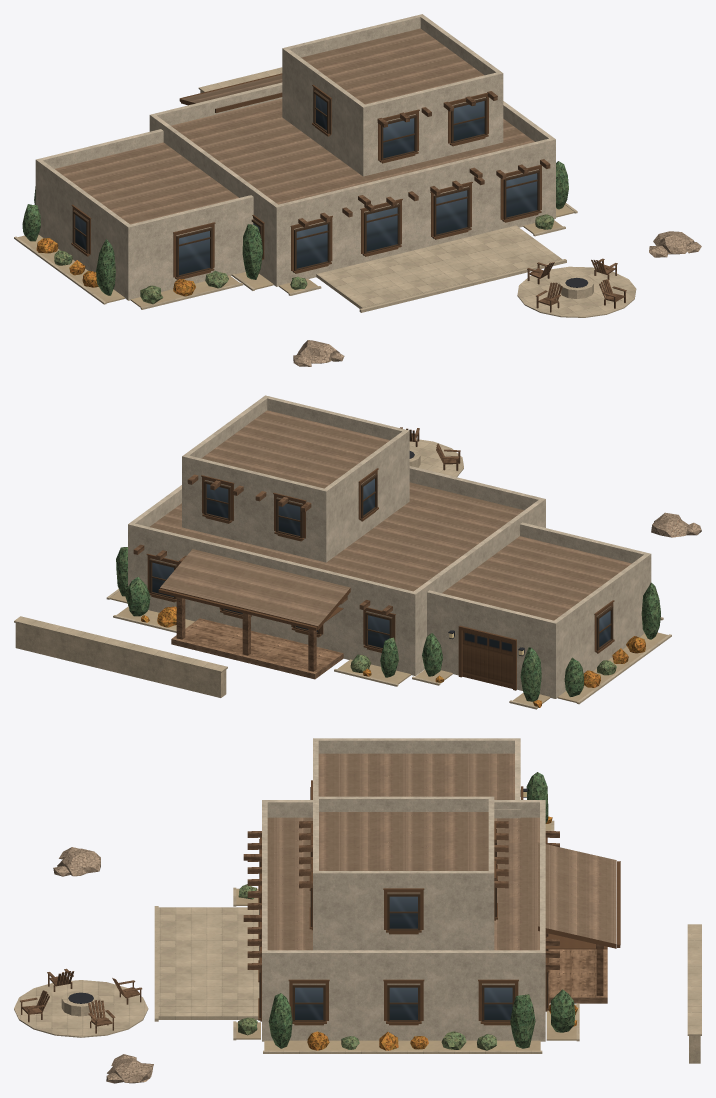
The model's file is desert_pueblo.fbx.
The picture shows the model from 3 angles, top to bottom: view 1: azimuth 30°, elevation 25°; view 2: azimuth 150°, elevation 25°; view 3: azimuth 270°, elevation 25°; orthographic projection. The views are drawn at different scales.
Visible parts, largest first — view 1: desert_pueblo_LOD0; view 2: desert_pueblo_LOD0; view 3: desert_pueblo_LOD0.
Part boxes in pixels (bbox=[...]): desert_pueblo_LOD0: bbox=[14, 14, 701, 366]; desert_pueblo_LOD0: bbox=[14, 395, 701, 709]; desert_pueblo_LOD0: bbox=[14, 738, 701, 1083].
Size of what is drawn, in the model's own units: 25.28 by 6.53 by 26.65.
Materials: 2 (2 with a texture image).
